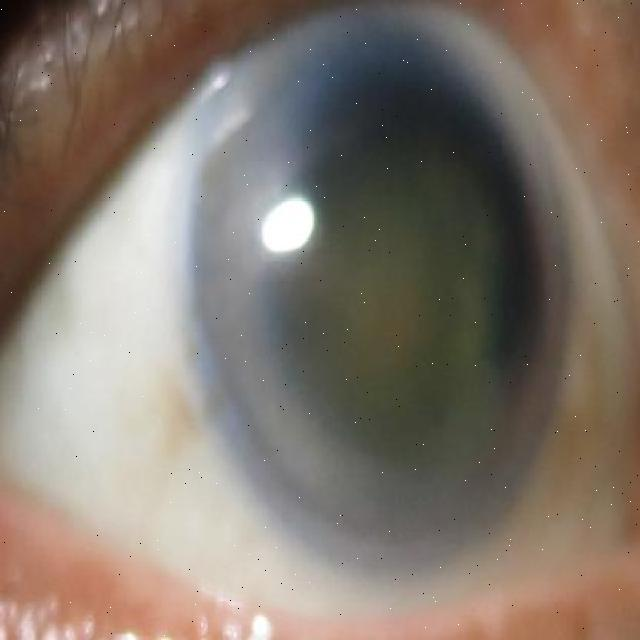Cataract: (179, 19, 562, 587)
